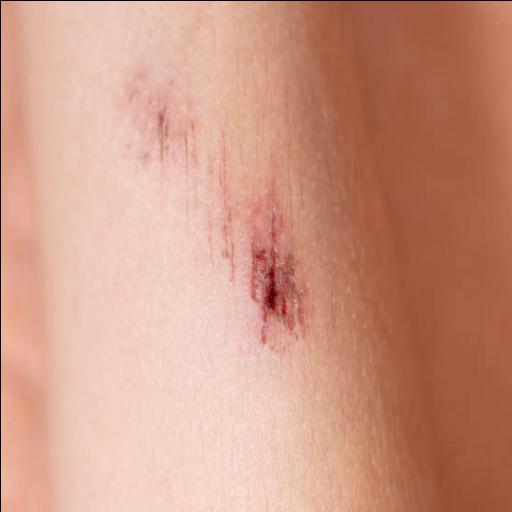bruises: (0, 262, 200, 512), (246, 230, 296, 326)
